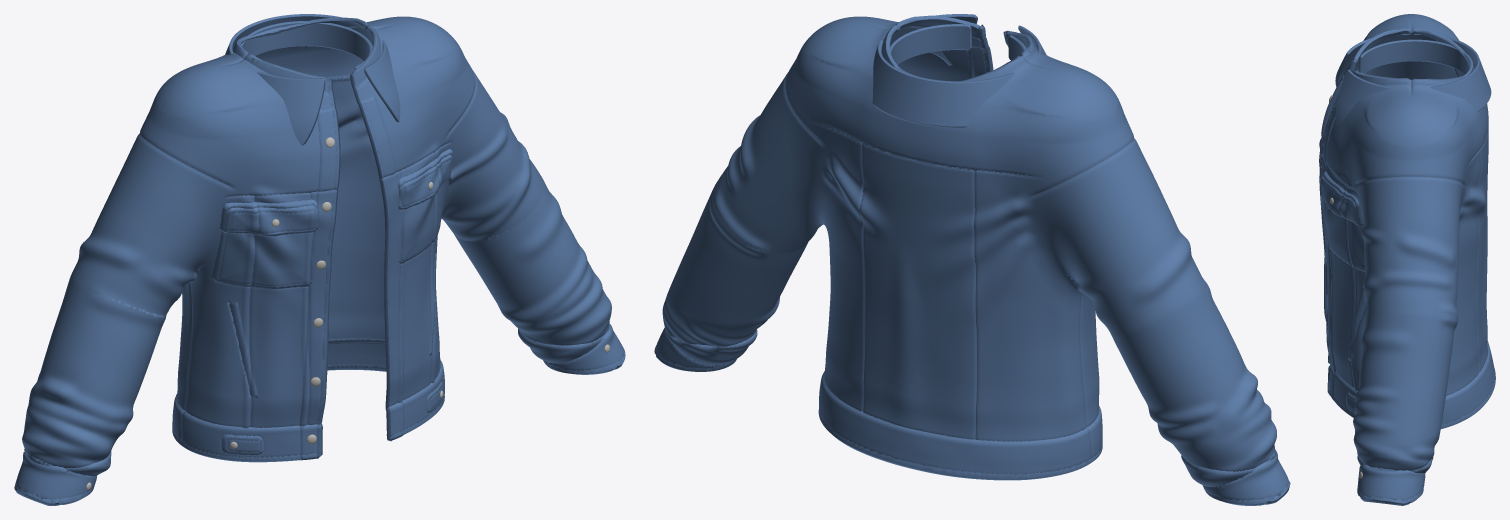
Rendered from 03_chaqueta_vaquera_abierta.glb.
3 views of the same model, side by side, from view 1: azimuth 30°, elevation 25°; view 2: azimuth 150°, elevation 25°; view 3: azimuth 270°, elevation 25° (orthographic). The views are drawn at different scales.
Visible parts, largest first — view 1: body, hardware; view 2: body; view 3: body.
Part boxes in pixels (x1=…): body: x1=14, y1=14, x2=625, y2=505; hardware: x1=86, y1=137, x2=609, y2=490; body: x1=654, y1=14, x2=1290, y2=505; body: x1=1319, y1=14, x2=1495, y2=505.
Size of the model in its own units: 1.01 by 0.6095 by 0.2976.
